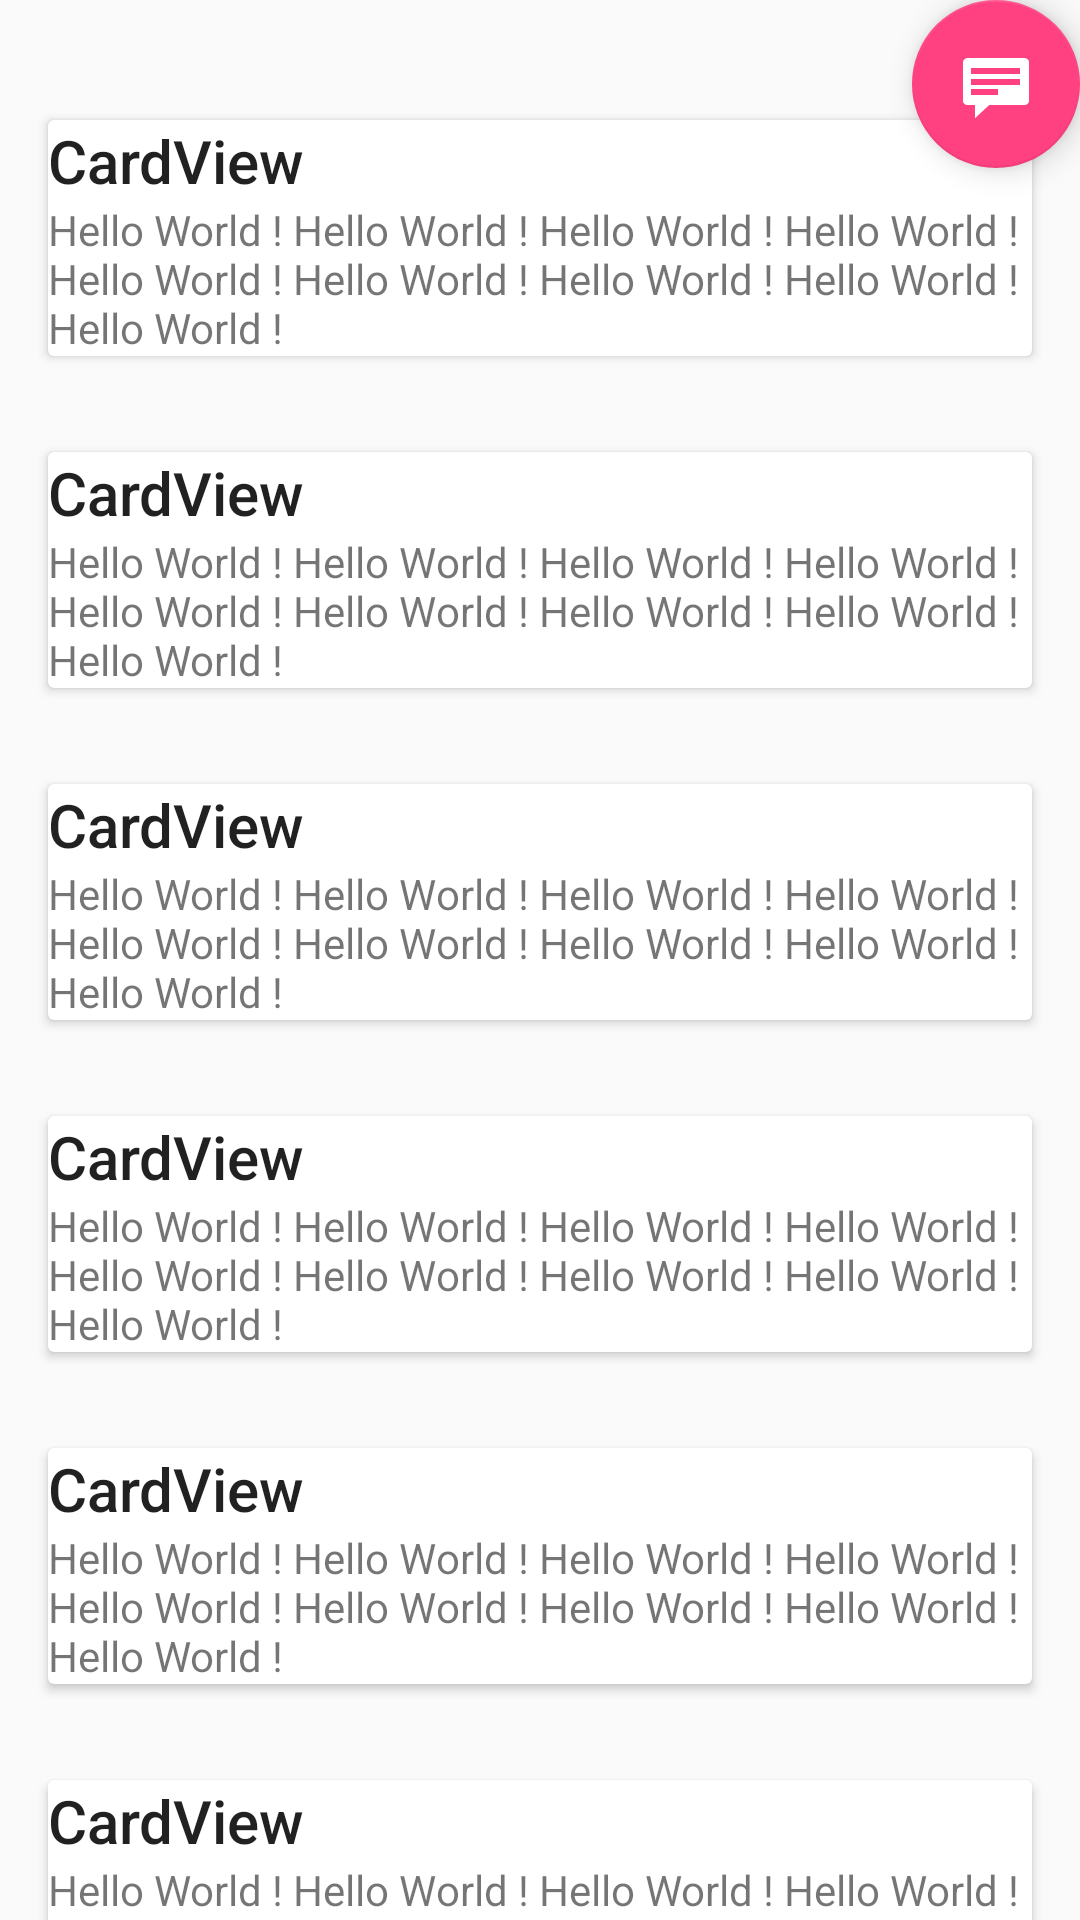

Where icons sit on this 1080*1920 app screen, as (x1, y1, x2, y2):
chat: (912, 0, 1080, 168)
